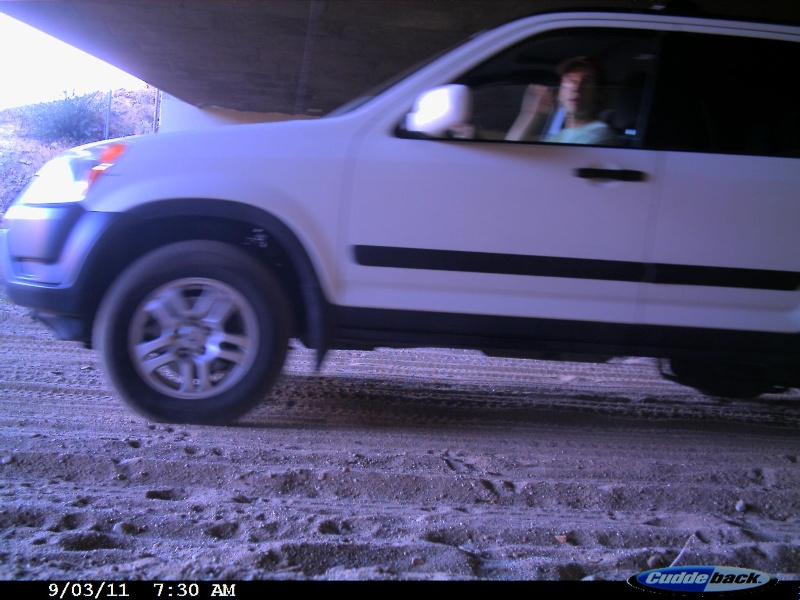human face: (553, 58, 615, 123)
